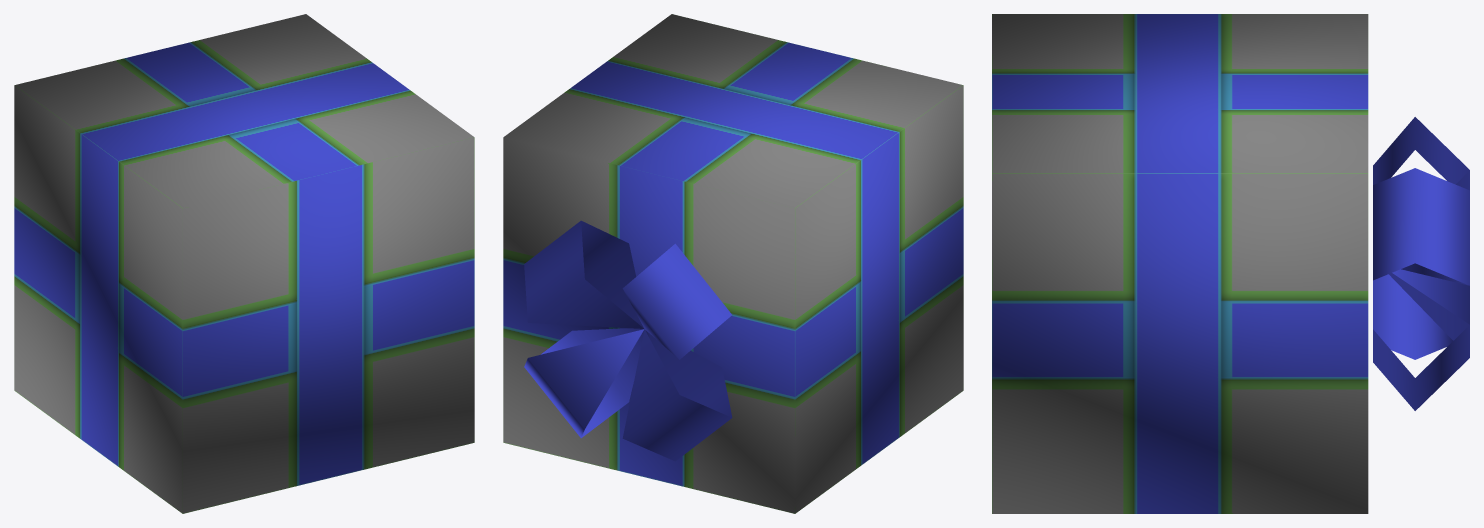
Rendered from Present_green_a.fbx.
3 renders of one model, left to right at view 1: azimuth 30°, elevation 25°; view 2: azimuth 150°, elevation 25°; view 3: azimuth 270°, elevation 25°, orthographic. The views are drawn at different scales.
Parts seen in each view (by area): view 1: Present_green_a; view 2: Present_green_a; view 3: Present_green_a.
Boxes of the visible parts, <box> form: Present_green_a: <box>14,14,474,513</box>; Present_green_a: <box>503,14,963,513</box>; Present_green_a: <box>992,14,1469,513</box>.
Size of the model in its own units: 49.8 by 49.8 by 63.24.
